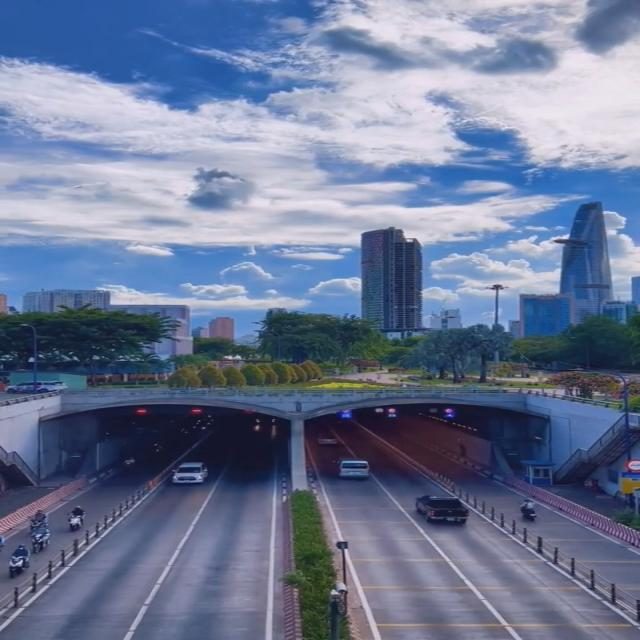car: (416, 493, 469, 528), (169, 461, 211, 488)
motorbike: (9, 544, 29, 577), (29, 526, 51, 553), (69, 502, 85, 531), (520, 500, 538, 523), (31, 510, 47, 530)
